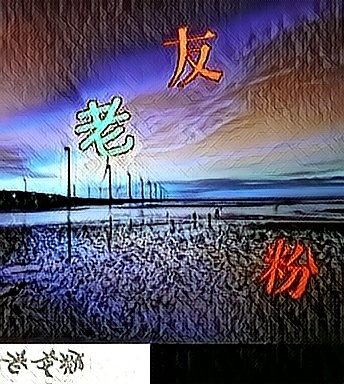B7DB: (258, 234, 321, 300)
C0CF: (75, 93, 138, 159)
D3D1: (160, 25, 223, 91)
